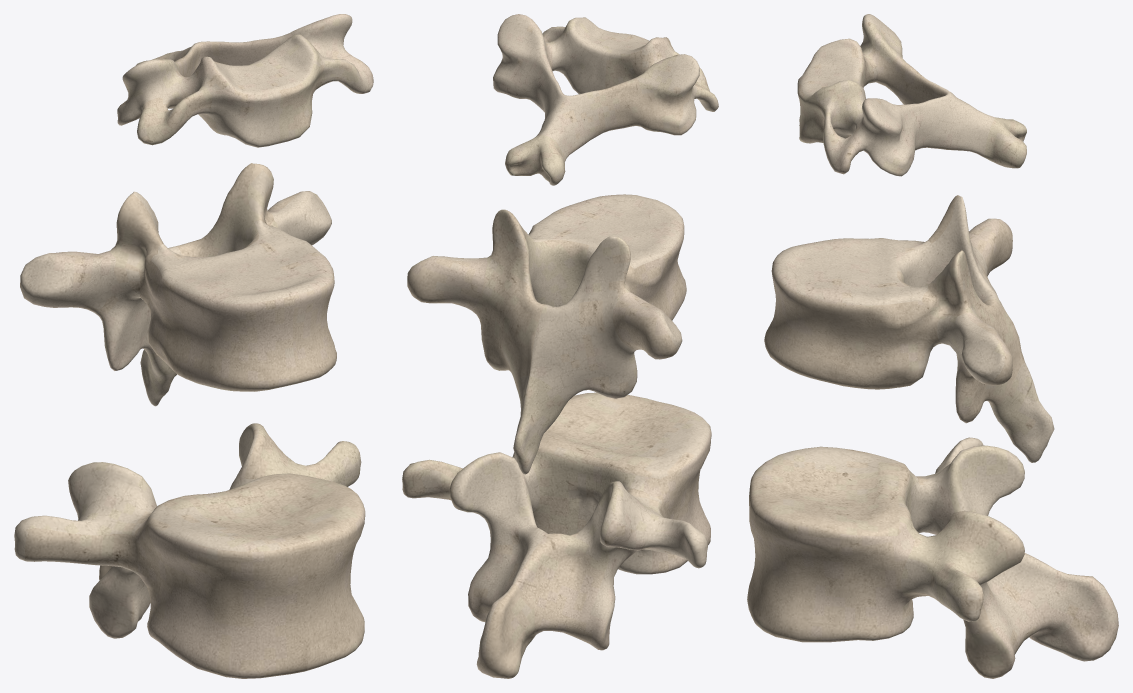
File: vertebrae.glb
3 renders of one model, left to right at view 1: azimuth 30°, elevation 25°; view 2: azimuth 150°, elevation 25°; view 3: azimuth 270°, elevation 25°, orthographic. The views are drawn at different scales.
Visible parts, largest first — view 1: Lumbar vertebra (L3), Thoracic vertebra (T7), Cervical vertebra (C4); view 2: Lumbar vertebra (L3), Thoracic vertebra (T7), Cervical vertebra (C4); view 3: Lumbar vertebra (L3), Thoracic vertebra (T7), Cervical vertebra (C4).
Boxes of the visible parts, box(x1,y1,x2,y2) form: Lumbar vertebra (L3): box(14, 423, 365, 678); Thoracic vertebra (T7): box(20, 163, 336, 406); Cervical vertebra (C4): box(117, 14, 373, 147); Lumbar vertebra (L3): box(402, 392, 711, 678); Thoracic vertebra (T7): box(407, 194, 686, 474); Cervical vertebra (C4): box(493, 14, 718, 185); Lumbar vertebra (L3): box(747, 437, 1118, 678); Thoracic vertebra (T7): box(764, 195, 1054, 462); Cervical vertebra (C4): box(797, 14, 1026, 176).
Size of the model in its own units: 0.0837 by 0.1495 by 0.0843.
3 materials, 3 textured.
